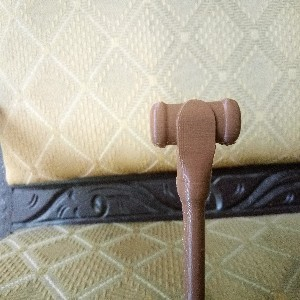palu: (149, 98, 241, 300)
